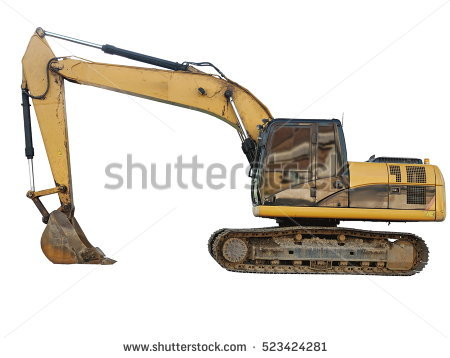backhoe: (20, 22, 449, 280)
